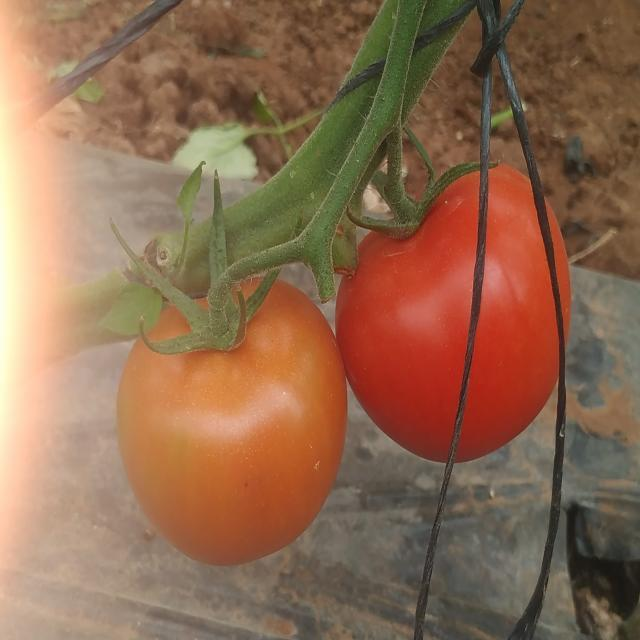Ripe Tomato: (337, 162, 568, 464), (118, 276, 346, 560)
